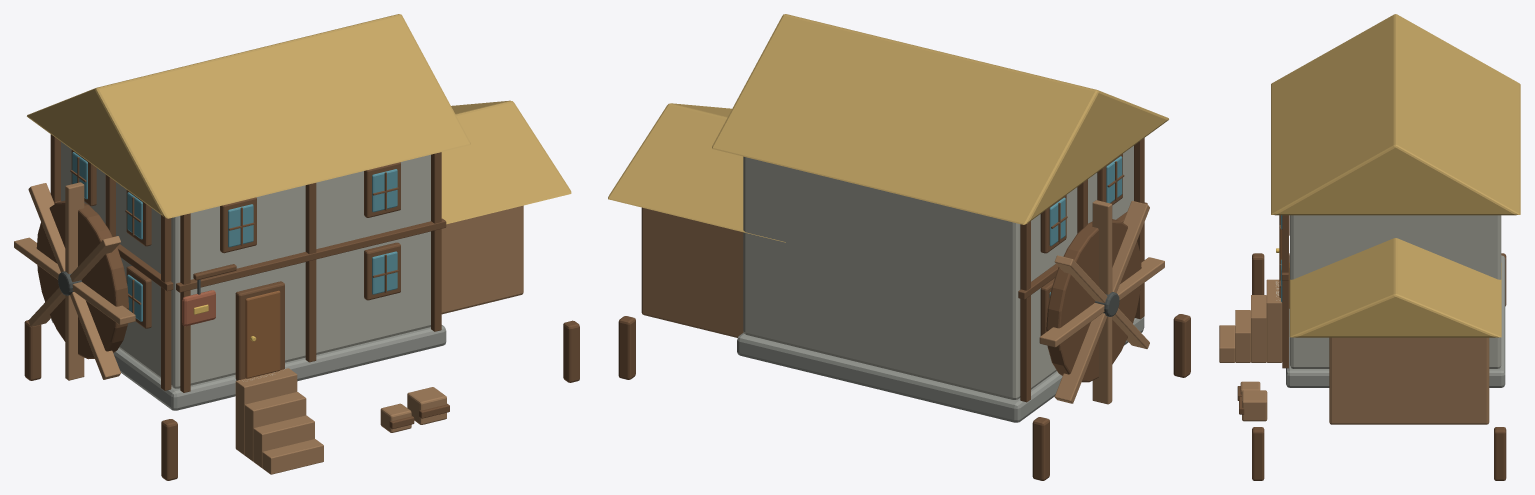
The model's file is wetland-mill-1.glb.
3 renders of one model, left to right at view 1: azimuth 30°, elevation 25°; view 2: azimuth 150°, elevation 25°; view 3: azimuth 270°, elevation 25°, orthographic. The views are drawn at different scales.
Parts seen in each view (by area): view 1: Golden thatch, Fieldstone, Dark beams, Aged oak, Foundation stone, Blue glass, Door oak, Painted sign; view 2: Golden thatch, Fieldstone, Aged oak, Dark beams, Foundation stone, Blue glass; view 3: Golden thatch, Aged oak, Fieldstone, Dark beams, Foundation stone.
Part boxes in pixels (<box>): Golden thatch: <box>27,14,571,224</box>; Fieldstone: <box>61,142,430,388</box>; Dark beams: <box>24,134,579,480</box>; Aged oak: <box>14,182,523,474</box>; Foundation stone: <box>51,318,446,410</box>; Blue glass: <box>72,152,397,321</box>; Door oak: <box>245,290,280,378</box>; Painted sign: <box>182,290,215,326</box>; Golden thatch: <box>608,14,1168,242</box>; Fieldstone: <box>743,146,1133,399</box>; Aged oak: <box>641,200,1164,404</box>; Dark beams: <box>618,138,1190,480</box>; Foundation stone: <box>737,317,1144,422</box>; Blue glass: <box>1049,156,1122,297</box>; Golden thatch: <box>1271,14,1520,337</box>; Aged oak: <box>1219,279,1489,424</box>; Fieldstone: <box>1290,215,1501,368</box>; Dark beams: <box>1237,215,1506,480</box>; Foundation stone: <box>1286,255,1505,387</box>.
Size of the model in its own units: 6.63 by 4.76 by 4.42.
